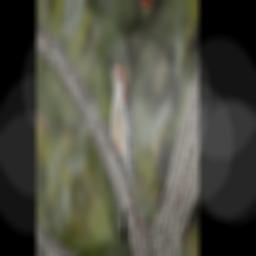Woodpecker: (71, 48, 161, 247)
